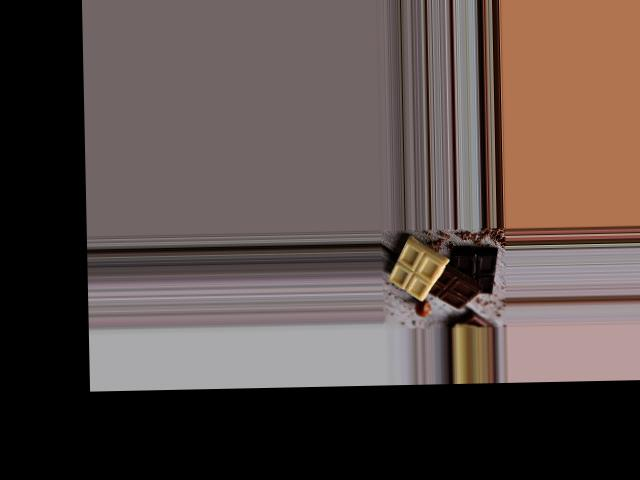chocolate: (388, 240, 503, 310)
